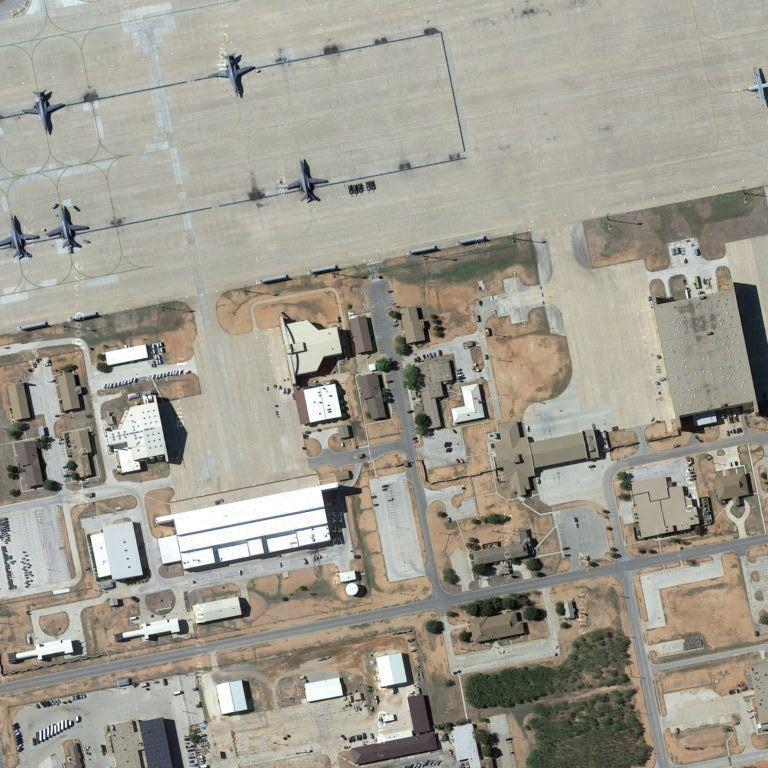B-1B: (44, 202, 92, 256), (23, 83, 70, 138), (2, 209, 42, 268), (285, 153, 329, 206), (217, 46, 255, 101)
C-130: (746, 62, 767, 108)
